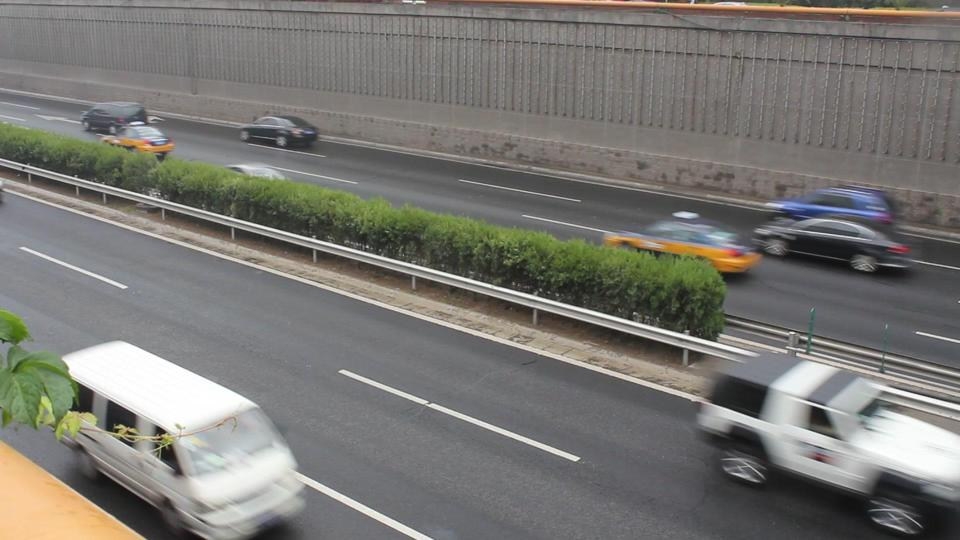Car: (698, 351, 932, 515), (747, 215, 907, 276), (603, 216, 754, 276), (766, 185, 889, 230), (197, 161, 296, 206), (237, 113, 318, 149), (102, 124, 174, 156)
Minivan: (50, 337, 311, 528), (79, 100, 149, 136)
